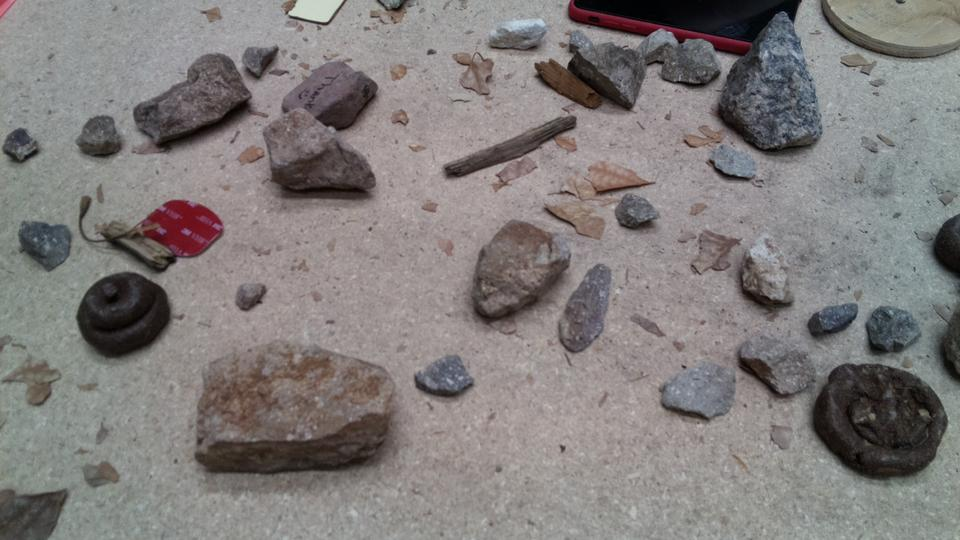poop: (809, 361, 949, 481), (75, 269, 172, 359)
